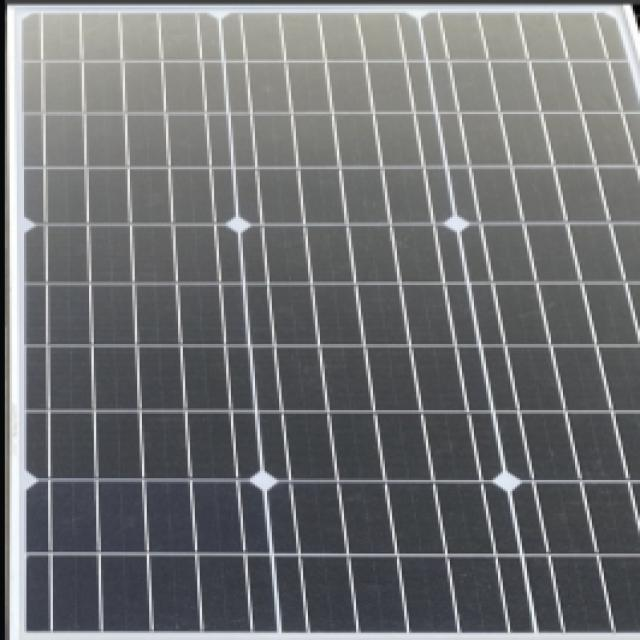clean-solar-panel: (26, 14, 638, 631)
